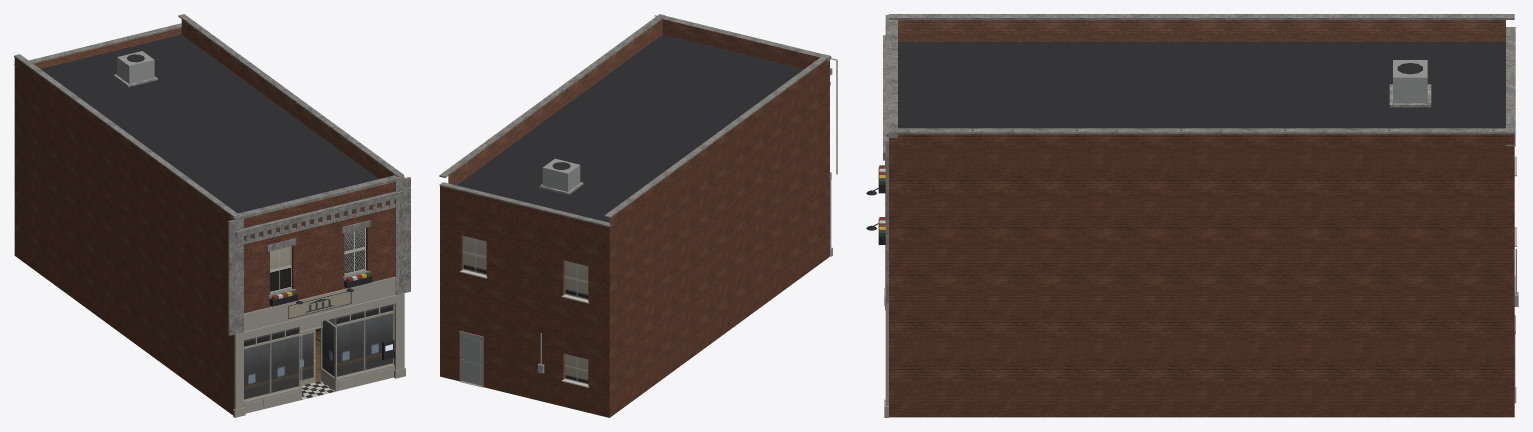
The model's file is town_shop_d.gltf.
3 views of the same model, side by side, from view 1: azimuth 30°, elevation 25°; view 2: azimuth 150°, elevation 25°; view 3: azimuth 270°, elevation 25° (orthographic). The views are drawn at different scales.
Parts seen in each view (by area): view 1: TownShopD_Walls, TownShopD_RoofDeck, TownShopD_Window, TownShopD_Coping, TownShopD_ParapetIn, TownShopD_Pilasters, TownShopD_Iron, TownShopD_Cornice, TownShopD_SignBand, TownShopD_Frames, TownShopD_Bulkheads, TownShopD_HVAC (+5 smaller); view 2: TownShopD_Walls, TownShopD_RoofDeck, TownShopD_ParapetIn, TownShopD_Coping, TownShopD_Window, TownShopD_HVAC, TownShopD_ClosedDoor, TownShopD_Trim; view 3: TownShopD_Walls, TownShopD_RoofDeck, TownShopD_ParapetIn, TownShopD_Coping, TownShopD_HVAC, TownShopD_Pilasters.
Part boxes in pixels (x1,y1,x2,y2): TownShopD_Walls: (14, 57, 394, 415); TownShopD_RoofDeck: (41, 34, 378, 213); TownShopD_Window: (244, 228, 392, 399); TownShopD_Coping: (14, 14, 404, 220); TownShopD_ParapetIn: (34, 19, 394, 178); TownShopD_Pilasters: (228, 177, 410, 335); TownShopD_Iron: (233, 293, 405, 417); TownShopD_Cornice: (235, 190, 405, 244); TownShopD_SignBand: (244, 276, 395, 331); TownShopD_Frames: (244, 303, 394, 400); TownShopD_Bulkheads: (244, 364, 394, 413); TownShopD_HVAC: (113, 51, 157, 87); TownShopD_Walls: (440, 60, 829, 417); TownShopD_RoofDeck: (457, 34, 803, 222); TownShopD_ParapetIn: (448, 19, 819, 185); TownShopD_Coping: (439, 14, 831, 227); TownShopD_Window: (463, 236, 588, 384); TownShopD_HVAC: (539, 158, 583, 194); TownShopD_ClosedDoor: (462, 333, 481, 385); TownShopD_Trim: (459, 269, 588, 387); TownShopD_Walls: (889, 134, 1514, 417); TownShopD_RoofDeck: (898, 42, 1505, 128); TownShopD_ParapetIn: (898, 20, 1505, 41); TownShopD_Coping: (886, 14, 1515, 146); TownShopD_HVAC: (1389, 60, 1431, 107); TownShopD_Pilasters: (885, 15, 888, 303).
Size of what is drawn, in the model's own units: 8.6 by 9.21 by 18.78.
Materials: 2 (2 with a texture image).
